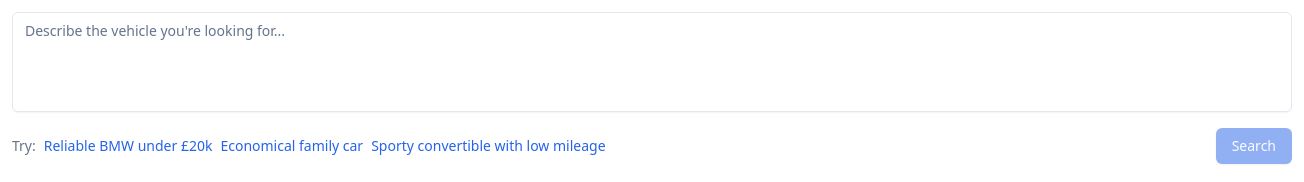
Test: SearchInput › shows character count when typing
Step 1. Type "Hello" into the text box → x=652, y=62, box [12, 12, 1292, 112]
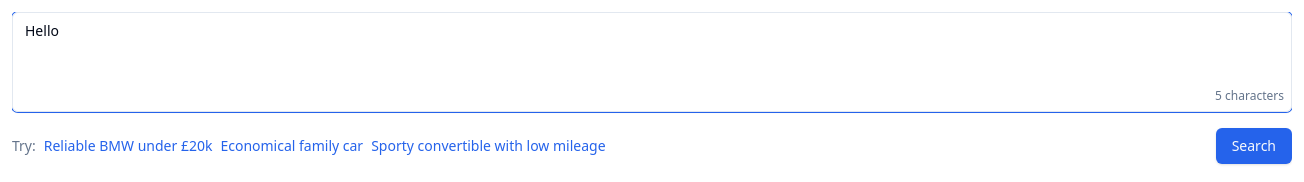
Expected: the text "5 characters" is shown, [1215, 88, 1284, 104]
